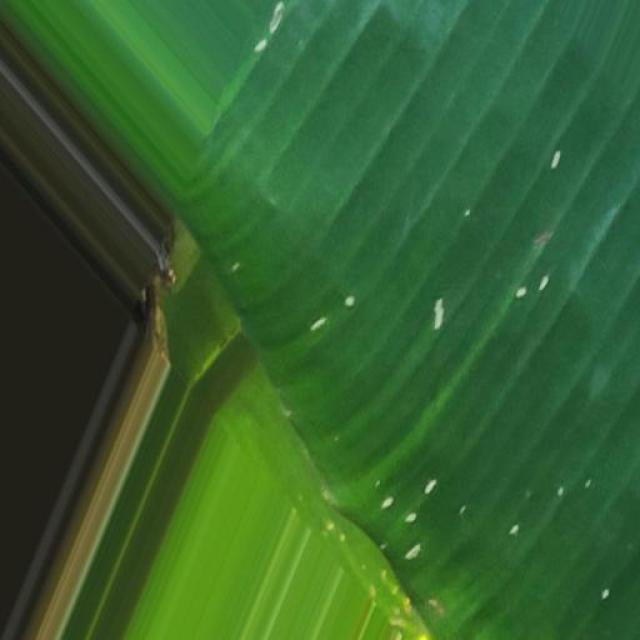Black_rot: (206, 153, 640, 564)
